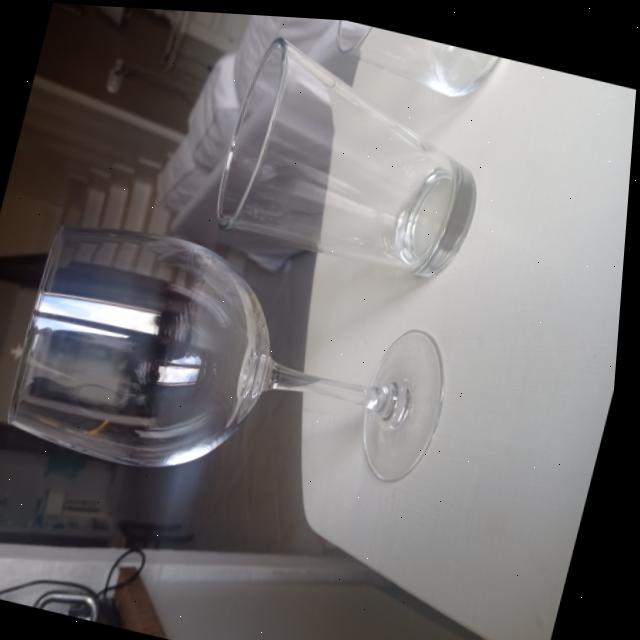Dry: (0, 206, 477, 530), (205, 27, 510, 286)
